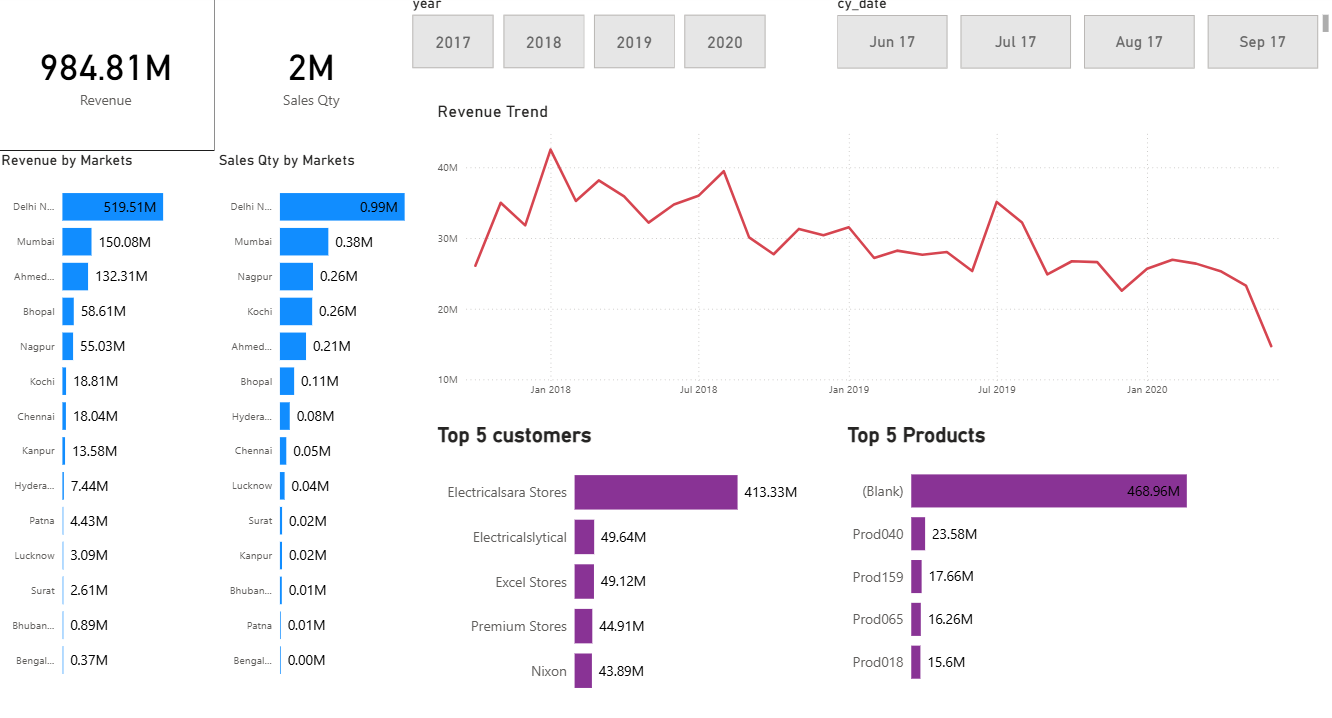

What the dashboard file says about the page in this screenshot:
{"tool":"powerbi","page":{"name":"Page 1","canvas":[1550,850],"ordinal":0},"visuals":[{"type":"card","fields":{"Values":["BaseMeasures.Revenue"]},"box":[0,0,252,182.5],"z":0},{"type":"card","fields":{"Values":["BaseMeasures.Sales Qty"]},"box":[252,0,224.5,182.5],"z":1000},{"type":"barChart","title":"Revenue by Markets","fields":{"Y":["BaseMeasures.Revenue"],"Category":["sales markets.markets_name"]},"box":[0,182.5,252,627.2],"z":2000},{"type":"barChart","title":"Sales Qty by Markets","fields":{"Y":["BaseMeasures.Sales Qty"],"Category":["sales markets.markets_name"]},"box":[252,182.5,252,627.2],"z":3000},{"type":"advancedSlicerVisual","fields":{"Values":["sales date.year"]},"box":[476.6,0,421.5,91.3],"z":4000},{"type":"advancedSlicerVisual","fields":{"Values":["sales date.cy_date"]},"box":[969.1,0,580.9,91.3],"z":5000},{"type":"barChart","title":"Top 5 customers","fields":{"Category":["sales customers.custmer_name"],"Y":["BaseMeasures.Revenue"]},"box":[505.5,496.8,430.2,334.6],"z":6000},{"type":"barChart","title":"Top 5 Products","fields":{"Y":["BaseMeasures.Revenue"],"Category":["sales products.product_code"]},"box":[980.7,496.8,465,323],"z":7000},{"type":"lineChart","title":"Revenue Trend","fields":{"Y":["BaseMeasures.Revenue"],"Category":["sales date.cy_date.Variation.Date Hierarchy.Year","sales date.cy_date.Variation.Date Hierarchy.Quarter","sales date.cy_date.Variation.Date Hierarchy.Month","sales date.cy_date.Variation.Date Hierarchy.Day"]},"box":[505.1,124.6,1000.3,352.3],"z":8000}]}

Visuals, with their boxes in screenshot pixels (x1, y1, x2, y2), scaled from the page's 1550x850 canvas onto the 1332x718 screenshot:
card - BaseMeasures.Revenue: [x1=0, y1=0, x2=217, y2=154]
card - BaseMeasures.Sales Qty: [x1=217, y1=0, x2=409, y2=154]
"Revenue by Markets" barChart: [x1=0, y1=154, x2=217, y2=684]
"Sales Qty by Markets" barChart: [x1=217, y1=154, x2=433, y2=684]
advancedSlicerVisual - sales date.year: [x1=410, y1=0, x2=772, y2=77]
advancedSlicerVisual - sales date.cy_date: [x1=833, y1=0, x2=1331, y2=77]
"Top 5 customers" barChart: [x1=434, y1=420, x2=804, y2=702]
"Top 5 Products" barChart: [x1=843, y1=420, x2=1242, y2=692]
"Revenue Trend" lineChart: [x1=434, y1=105, x2=1294, y2=403]
